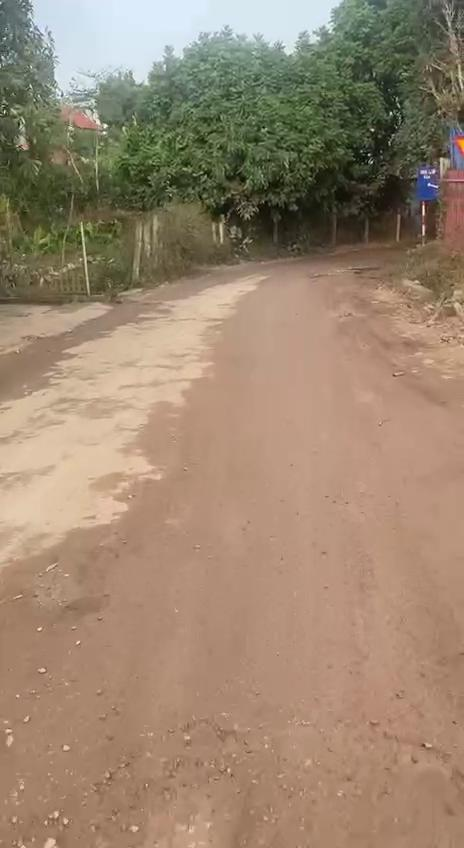pothole: (124, 740, 236, 848)
